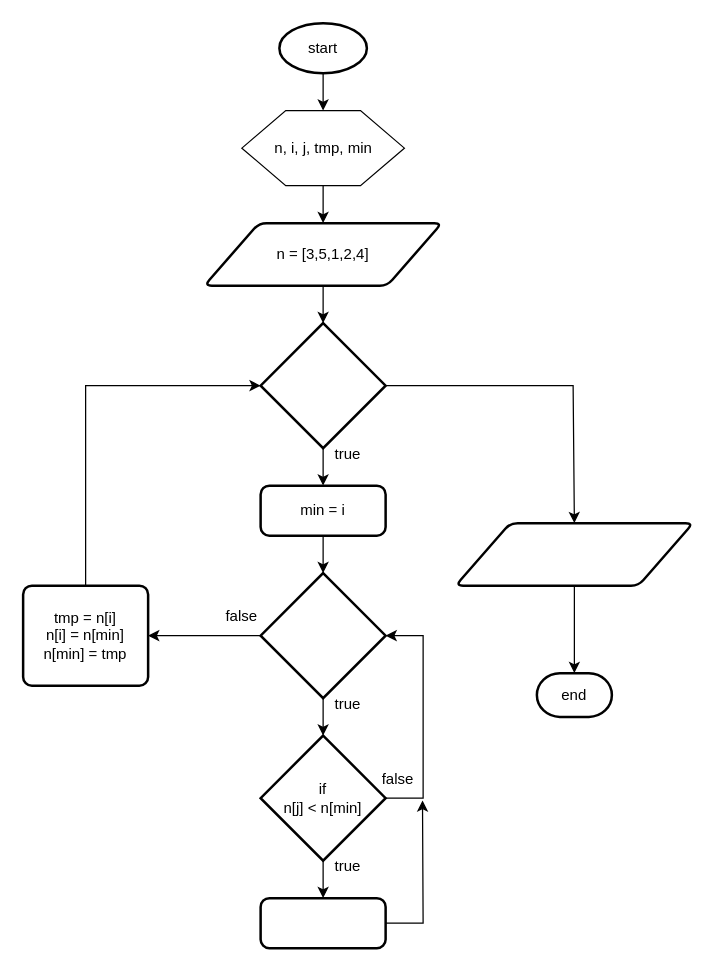
Some shapes in this 715 by 970 pixel diagram are drawn without their labels. The shapes that lost their labels are listed below. From the top down, each one's box as (x1, y1, x2, y2) in pixels, then its label:
(259, 321, 386, 449): for i = 0 i<n.length i++
(454, 521, 694, 586): n = [1,2,3,4,5]
(259, 571, 386, 699): for j = i+1 j<n.length j++
(259, 896, 386, 949): min = j
